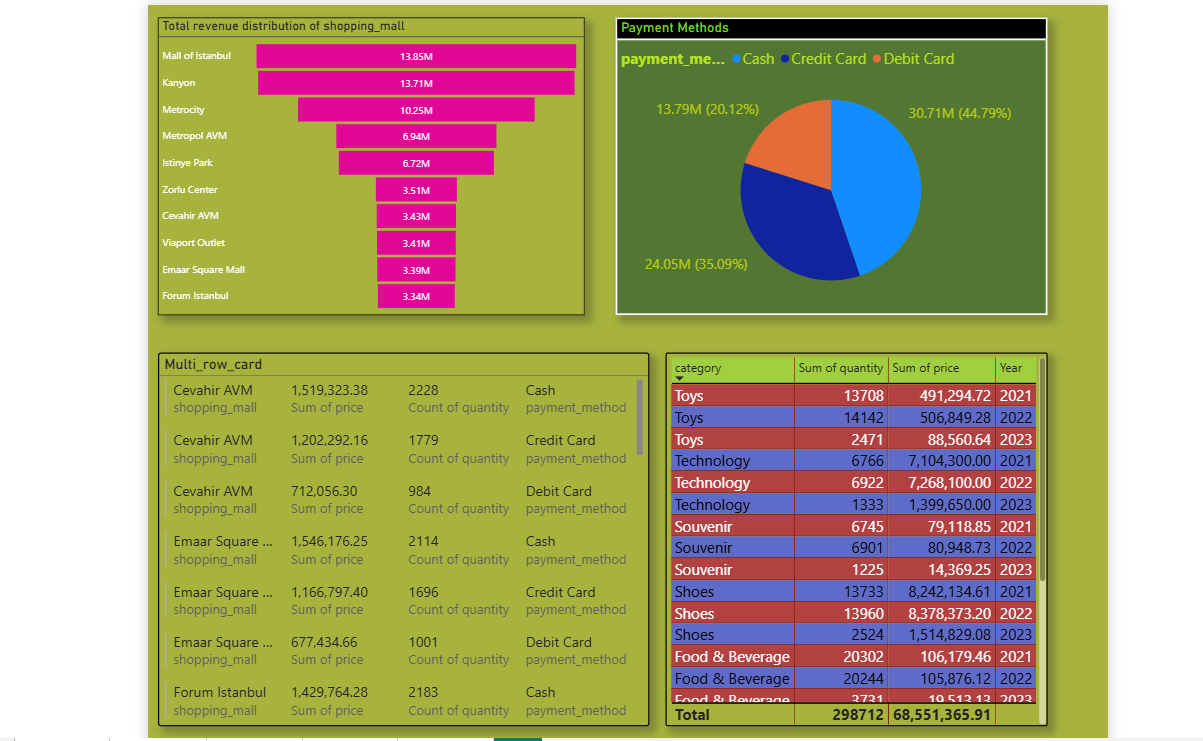

This screenshot's page, from the dashboard's own definition file:
{"tool":"powerbi","page":{"name":"Page 4","canvas":[1280,1000],"ordinal":1},"visuals":[{"type":"funnel","title":"Total revenue distribution of  shopping_mall","fields":{"Category":["customer_shopping_data.shopping_mall"],"Y":["Sum(customer_shopping_data.price)"]},"box":[14.1,16.9,569,397.2],"z":0},{"type":"multiRowCard","title":"Multi_row_card","fields":{"Values":["customer_shopping_data.shopping_mall","Sum(customer_shopping_data.price)","CountNonNull(customer_shopping_data.quantity)","customer_shopping_data.payment_method"]},"box":[14.1,463.4,654.9,498.6],"z":1000},{"type":"tableEx","fields":{"Values":["customer_shopping_data.category","Sum(customer_shopping_data.quantity)","Sum(customer_shopping_data.price)","customer_shopping_data.invoice_date.Variation.Date Hierarchy.Year"]},"box":[690.1,463.4,509.9,498.6],"z":2000},{"type":"pieChart","title":"Payment Methods","fields":{"Y":["Sum(customer_shopping_data.price)"],"Category":["customer_shopping_data.payment_method"]},"box":[623.9,16.9,576.1,397.2],"z":3000}]}

Visuals, with their boxes in screenshot pixels (x1, y1, x2, y2):
"Total revenue distribution of  shopping_mall" funnel: l=149, t=13, r=580, b=314
"Multi_row_card" multiRowCard: l=149, t=352, r=646, b=730
tableEx - customer_shopping_data.category x Sum(customer_shopping_data.quantity): l=662, t=352, r=1049, b=730
"Payment Methods" pieChart: l=611, t=13, r=1049, b=314
